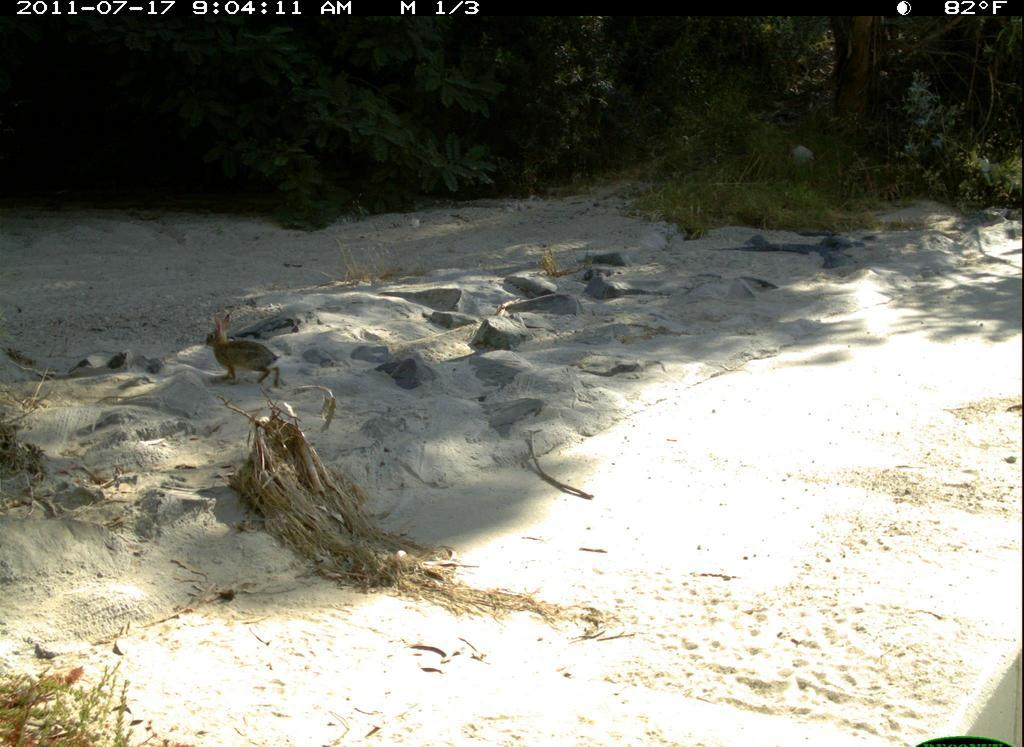rabbit: (201, 313, 281, 390)
